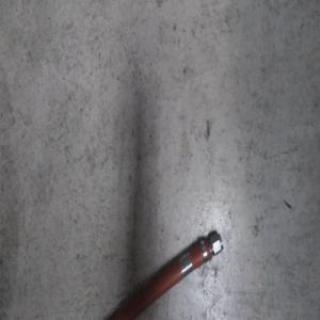Hosetrack_idkeyframe: (76, 227, 224, 319)
